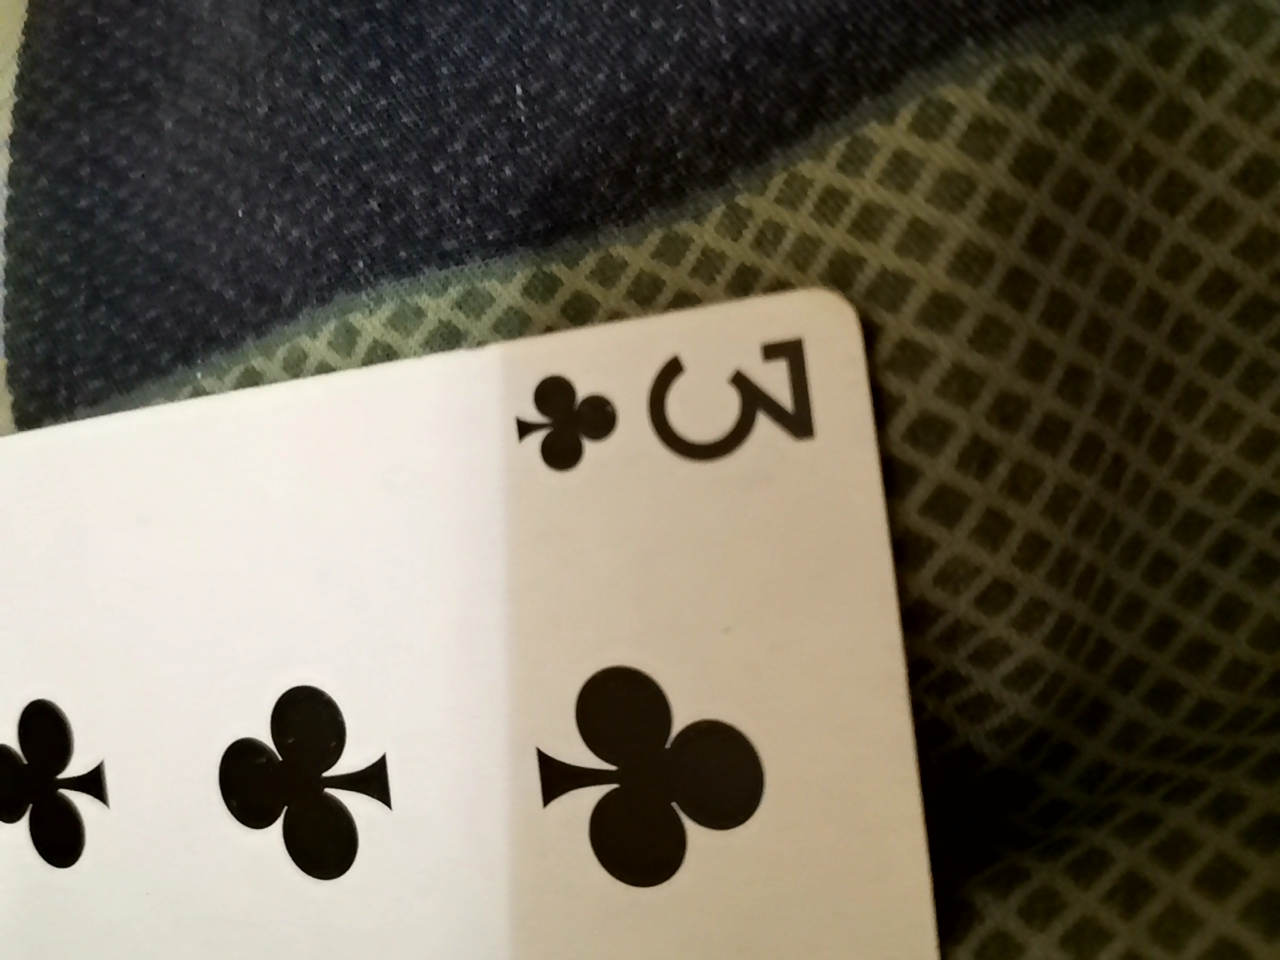mh 3: (7, 272, 973, 951)
